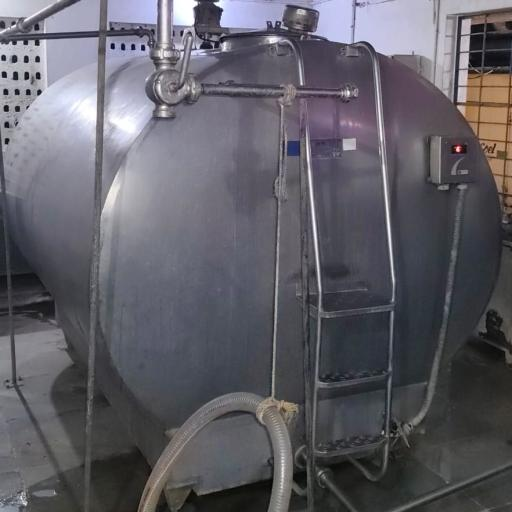silo: (0, 29, 501, 499)
